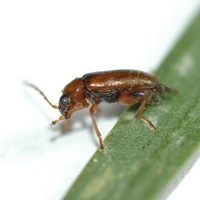insect: (24, 70, 177, 149)
